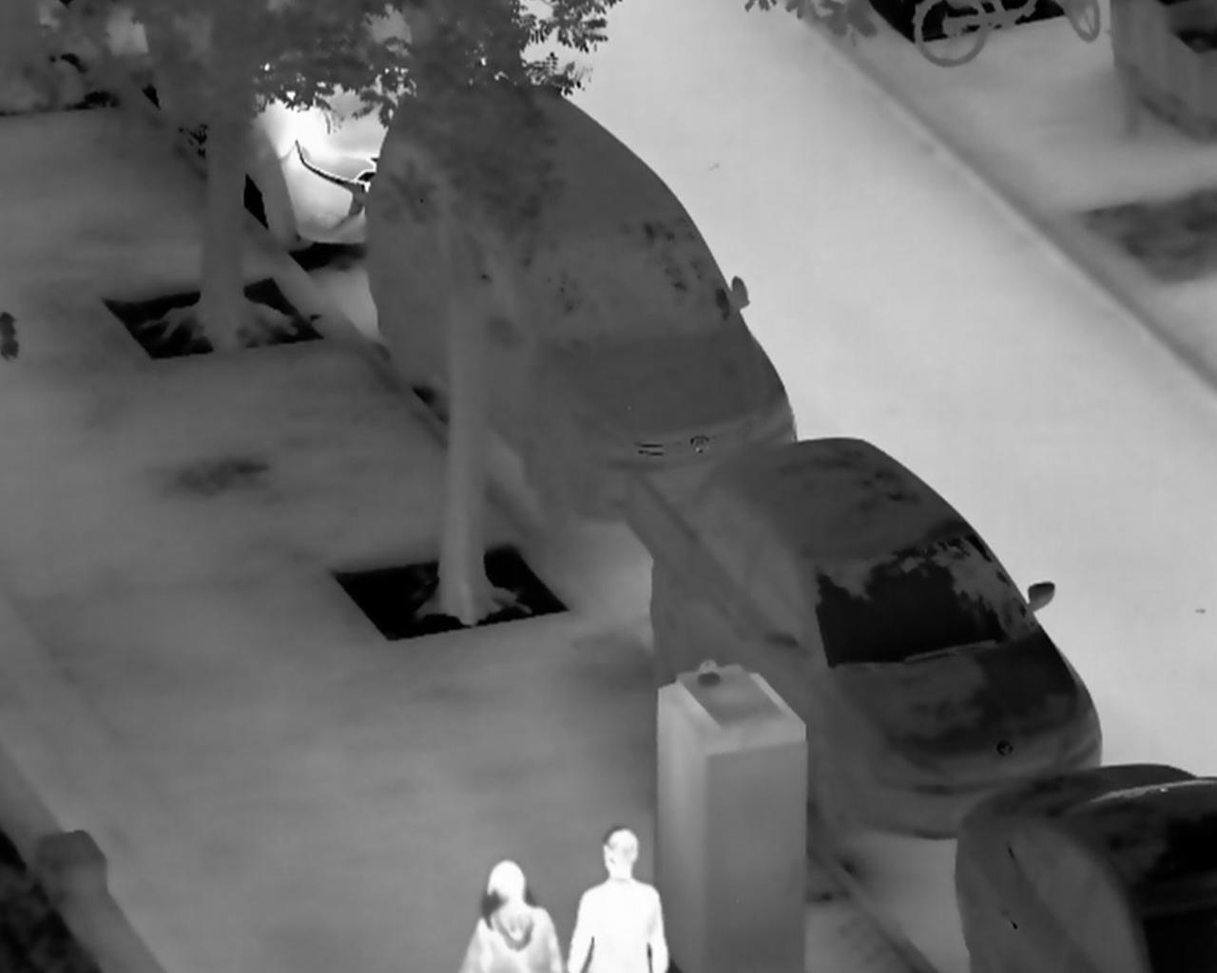person: (565, 826, 669, 973), (455, 854, 566, 973)
